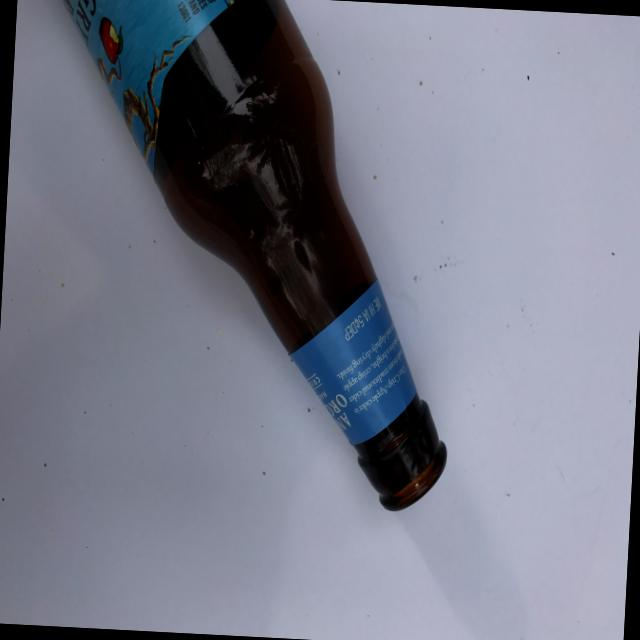Glass: (14, 0, 497, 532)
